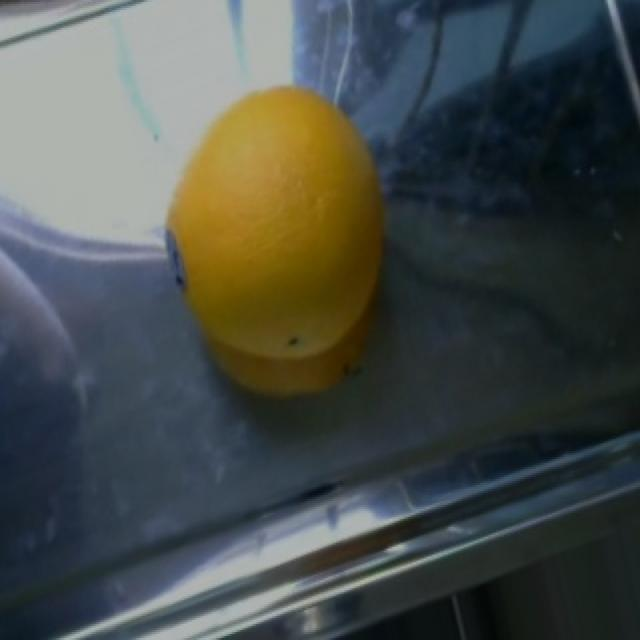Fruit: (158, 80, 402, 418)
